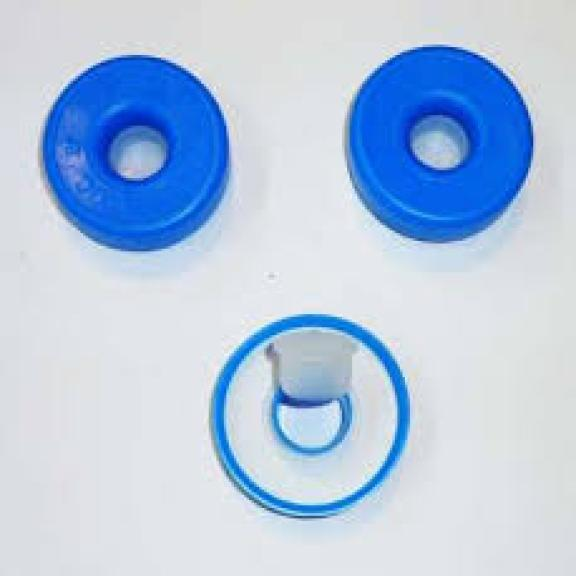Plastik: (206, 312, 415, 524), (40, 52, 234, 254), (342, 45, 536, 246)
